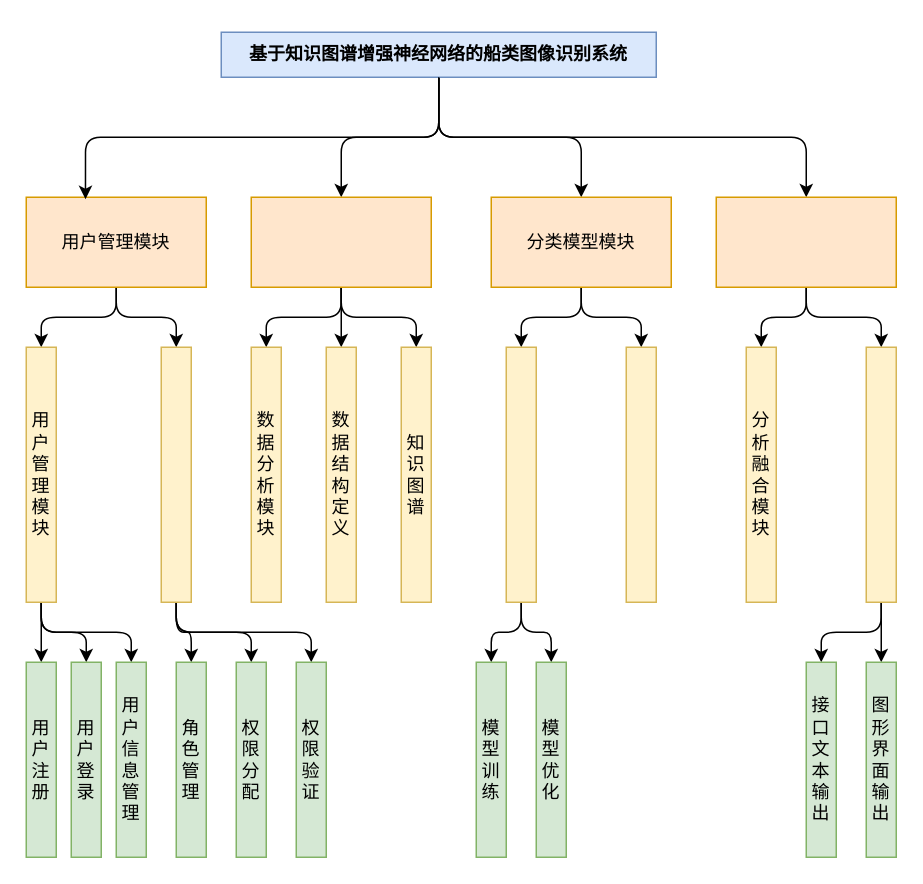
The diagram is 923 pixels wide and 884 high, and some of its shapes have lost their labels. The box of each missing label's shape, as (x1, y1, x2, y2) in pixels:
权限管理模块: (160, 346, 191, 602)
知识图谱构建模块: (250, 196, 431, 287)
神经网络模块预测模块: (625, 346, 656, 602)
神经网络模型训练模块: (505, 346, 536, 602)
结果输出模块: (865, 346, 896, 602)
输出反馈模块: (715, 196, 896, 287)
